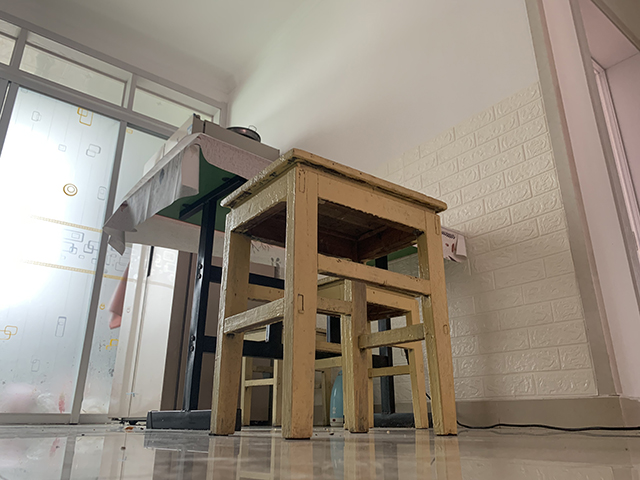stool: (205, 146, 460, 440), (310, 272, 431, 432)
table: (101, 131, 471, 429)
wire: (462, 421, 640, 435)
